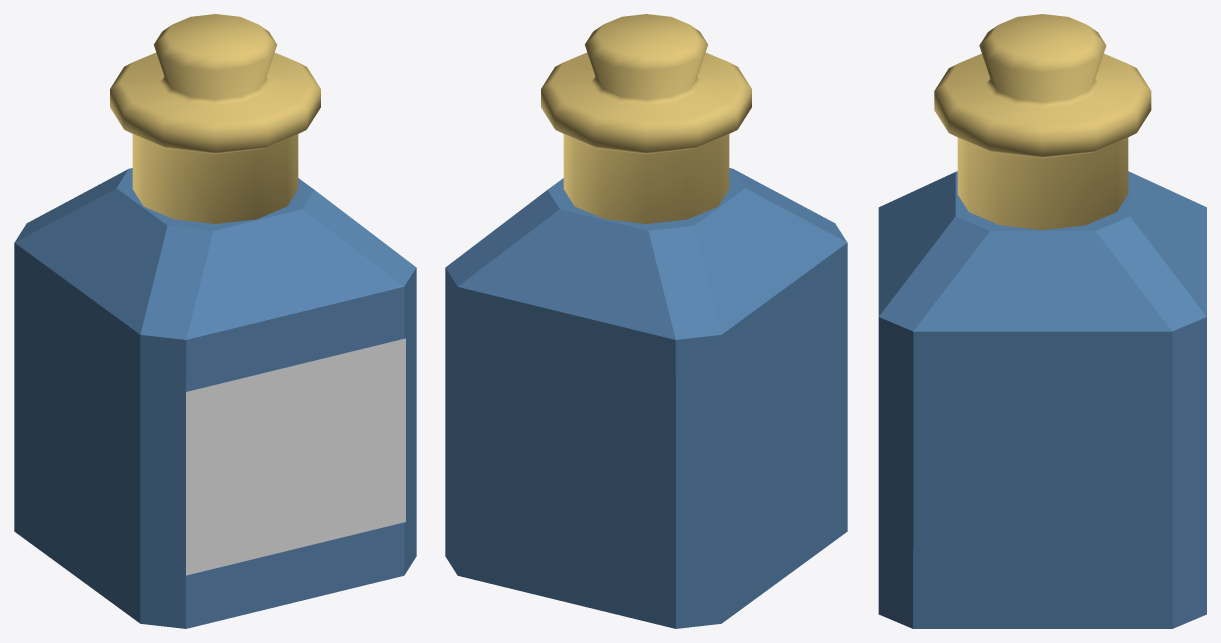
File: botella_cuadrada.fbx
3 renders of one model, left to right at view 1: azimuth 30°, elevation 25°; view 2: azimuth 150°, elevation 25°; view 3: azimuth 270°, elevation 25°, orthographic. The views are drawn at different scales.
Visible parts, largest first — view 1: botella_cuadrada; view 2: botella_cuadrada; view 3: botella_cuadrada.
Boxes of the visible parts, box(x1,y1,x2,y2) form: botella_cuadrada: box(14, 14, 416, 628); botella_cuadrada: box(445, 14, 847, 628); botella_cuadrada: box(878, 14, 1206, 628).
Bounding box in the file's own units: 200 × 352 × 202.
